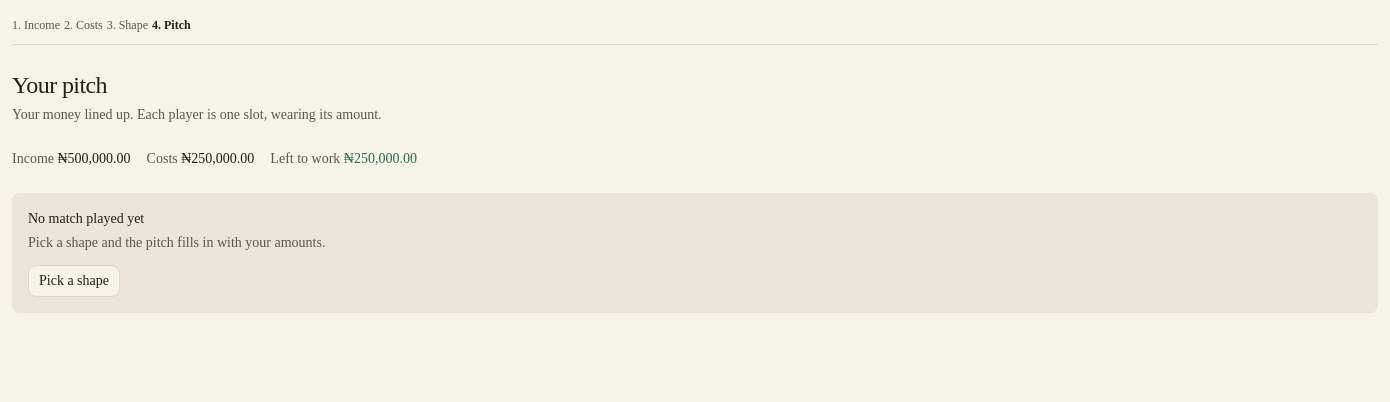
it: A draft shape that cannot cover (AC-5) › disables the pitch review button while the chosen shape is short
Click the button "Pick a shape": (74, 281) x1=28 y1=265 x2=120 y2=297
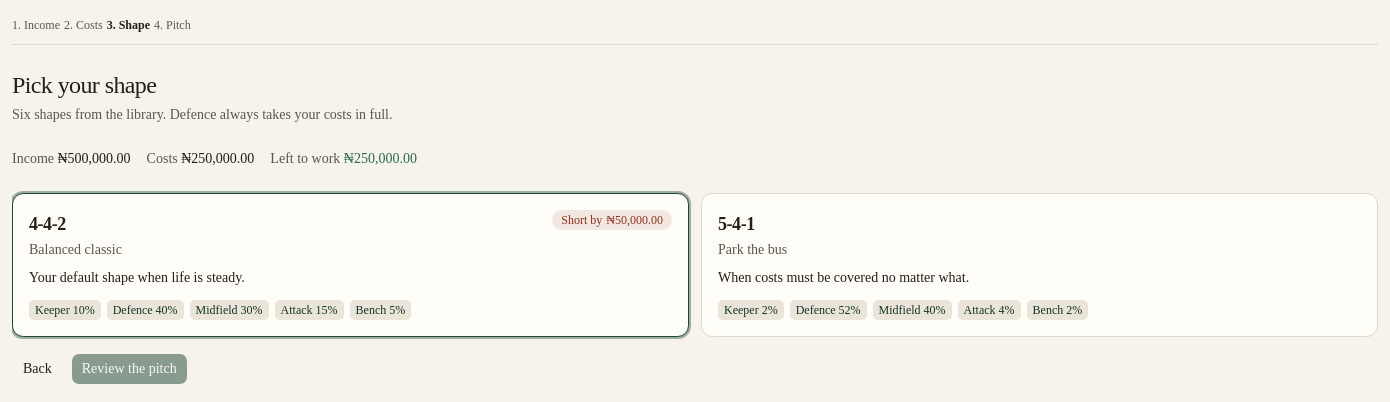
Expected: the button "Review the pitch" is disabled, x1=71 y1=353 x2=188 y2=385
Expected: the button "4-4-2" shows "Short by", x1=12 y1=193 x2=689 y2=337
